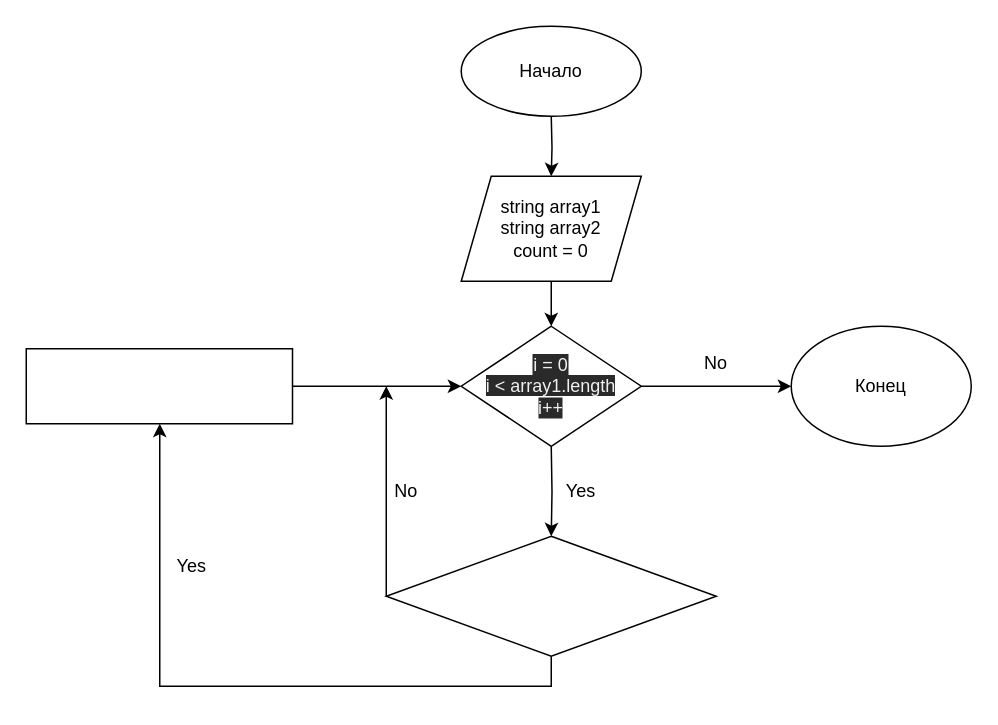
The diagram is 998 pixels wide and 725 high, and some of its shapes have lost their labels. The shapes that lost their labels are listed below. From the top down, each one's box as (x1, y1, x2, y2) in pixels, then its label:
(25, 347, 292, 424): array2[count] = array1[i] count++;
(385, 535, 716, 656): array1[i].length <= 3
